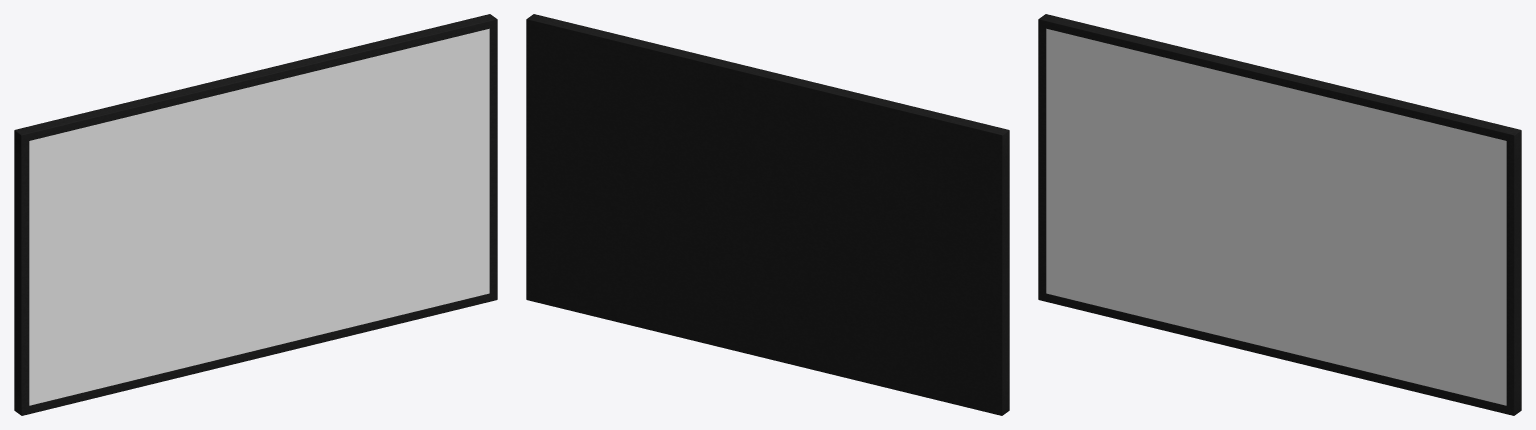
File: Wall_Mounted_indoor_digital_screen.fbx
3 renders of one model, left to right at view 1: azimuth 30°, elevation 25°; view 2: azimuth 150°, elevation 25°; view 3: azimuth 330°, elevation 25°, orthographic.
Parts seen in each view (by area): view 1: Wall_Mounted_indoor_digital_screen_Ad001, Wall_Mounted_indoor_digital_screen_Frame; view 2: Wall_Mounted_indoor_digital_screen_Frame; view 3: Wall_Mounted_indoor_digital_screen_Ad001, Wall_Mounted_indoor_digital_screen_Frame.
Part boxes in pixels (bbox=[...]): Wall_Mounted_indoor_digital_screen_Ad001: bbox=[29, 28, 489, 405]; Wall_Mounted_indoor_digital_screen_Frame: bbox=[14, 14, 497, 415]; Wall_Mounted_indoor_digital_screen_Frame: bbox=[526, 14, 1009, 415]; Wall_Mounted_indoor_digital_screen_Ad001: bbox=[1046, 28, 1506, 405]; Wall_Mounted_indoor_digital_screen_Frame: bbox=[1038, 14, 1521, 415].
Size of the model in its own units: 95.83 by 54.02 by 2.5.
Materials: 2 (2 with a texture image).
